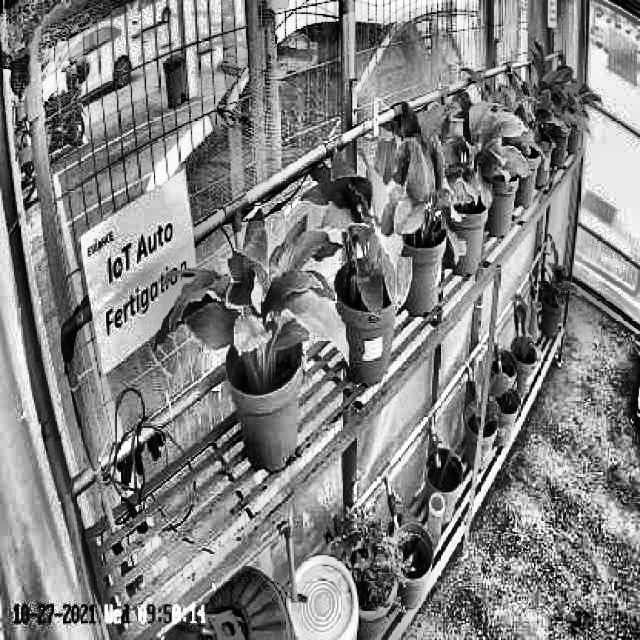plants: (156, 210, 349, 372), (313, 162, 412, 318), (422, 92, 536, 212), (376, 120, 469, 266)
